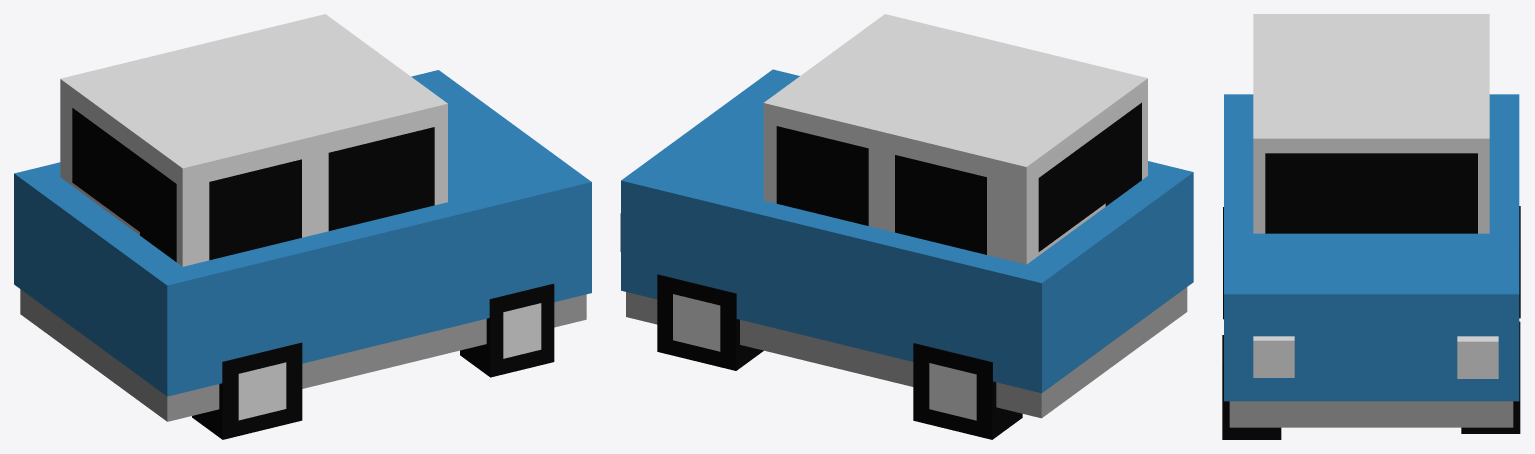
Rendered from newcar.fbx.
The picture shows the model from 3 angles, left to right: view 1: azimuth 30°, elevation 25°; view 2: azimuth 150°, elevation 25°; view 3: azimuth 270°, elevation 25°; orthographic projection. The views are drawn at different scales.
Parts seen in each view (by area): view 1: bluecar; view 2: bluecar; view 3: bluecar.
Part boxes in pixels (<box>): bluecar: <box>14,14,591,439</box>; bluecar: <box>620,14,1193,439</box>; bluecar: <box>1222,14,1520,439</box>.
Size of the model in its own units: 8.21 by 4.83 by 5.05.
